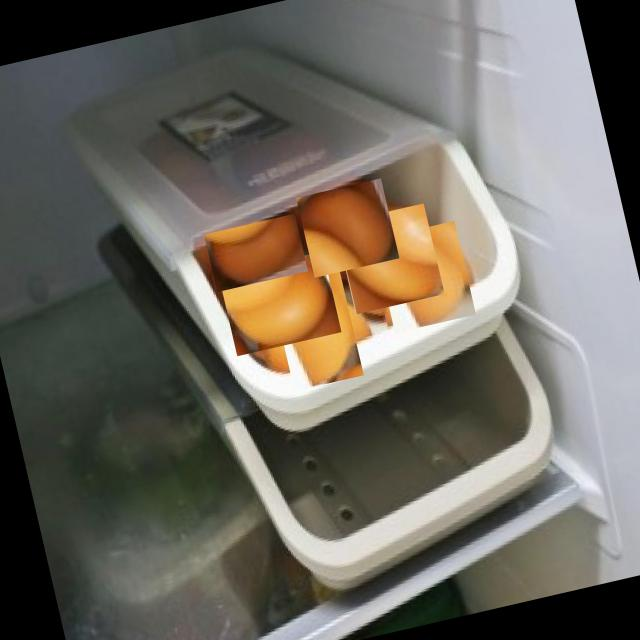eggs: (216, 250, 342, 356), (334, 202, 446, 314), (370, 223, 478, 331), (262, 276, 370, 384), (296, 176, 398, 278), (202, 212, 308, 292)
